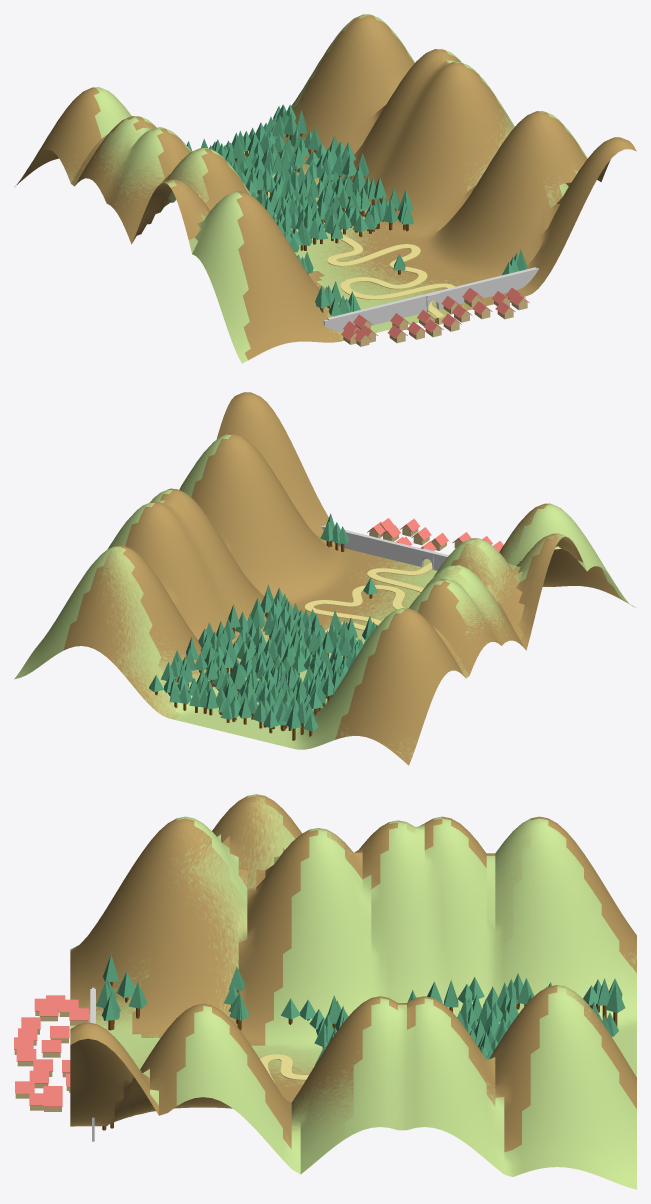
The model's file is map.fbx.
3 renders of one model, top to bottom at view 1: azimuth 30°, elevation 25°; view 2: azimuth 150°, elevation 25°; view 3: azimuth 270°, elevation 25°, orthographic. The views are drawn at different scales.
Visible parts, largest first — view 1: Ground, Forest, Vilige, Wall, Road; view 2: Ground, Forest, Road, Wall, Vilige; view 3: Ground, Forest, Vilige.
Boxes of the visible parts, left/top/right/bottom form: Ground: left=14, top=14, right=636, bottom=363; Forest: left=186, top=104, right=527, bottom=316; Vilige: left=341, top=287, right=529, bottom=346; Wall: left=323, top=267, right=538, bottom=331; Road: left=327, top=235, right=455, bottom=324; Ground: left=14, top=392, right=636, bottom=765; Forest: left=149, top=513, right=378, bottom=740; Road: left=304, top=562, right=432, bottom=633; Wall: left=321, top=525, right=448, bottom=570; Vilige: left=367, top=518, right=503, bottom=558; Ground: left=70, top=794, right=636, bottom=1189; Forest: left=96, top=954, right=625, bottom=1130; Vilige: left=14, top=995, right=88, bottom=1111.
Size of the model in its own units: 20000 by 6577 by 21993.
